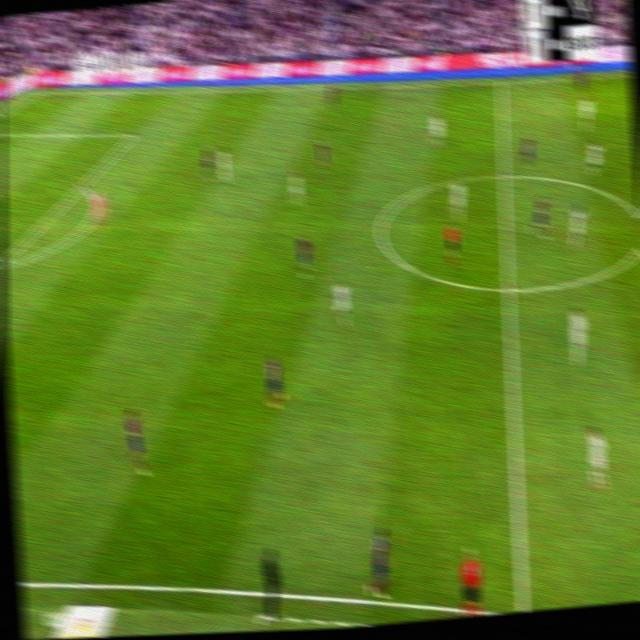bigarea_top_inner: (127, 127, 138, 142)
corner: (31, 85, 44, 97)
halfcircle_bottom: (499, 276, 517, 303)
halfcircle_top: (496, 162, 513, 188)
midline_top_intersection: (494, 76, 507, 89)
top_arc_area_intersection: (75, 178, 87, 194)
